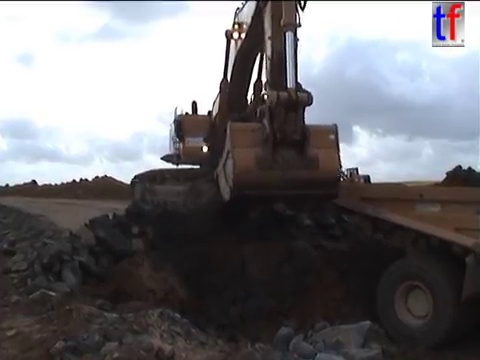excavator: (126, 1, 345, 221)
truck: (312, 178, 480, 353)
wheel loader: (318, 163, 373, 194)
